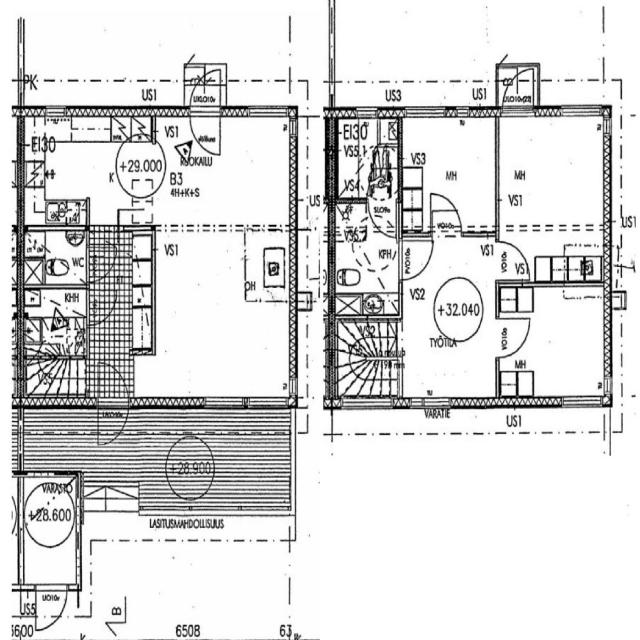door: (187, 88, 223, 158), (399, 232, 434, 282), (95, 398, 131, 445), (34, 583, 69, 630), (164, 442, 189, 504), (499, 315, 532, 357), (429, 190, 462, 230)
window: (246, 393, 288, 415), (338, 396, 392, 413), (560, 393, 603, 411), (558, 102, 601, 119), (248, 103, 288, 121), (459, 222, 496, 241), (405, 104, 446, 120), (354, 104, 378, 118), (453, 104, 472, 120), (44, 104, 68, 115), (286, 548, 294, 580), (364, 429, 382, 440)
zone: (86, 541, 293, 640), (497, 114, 609, 256), (498, 286, 609, 403), (402, 116, 498, 225), (332, 198, 400, 318), (42, 139, 120, 223), (88, 224, 154, 305), (19, 290, 91, 362), (333, 314, 397, 394), (21, 474, 79, 555), (335, 117, 390, 199), (87, 295, 154, 357), (21, 226, 89, 286), (113, 136, 161, 202), (246, 231, 287, 304), (71, 116, 110, 143)
